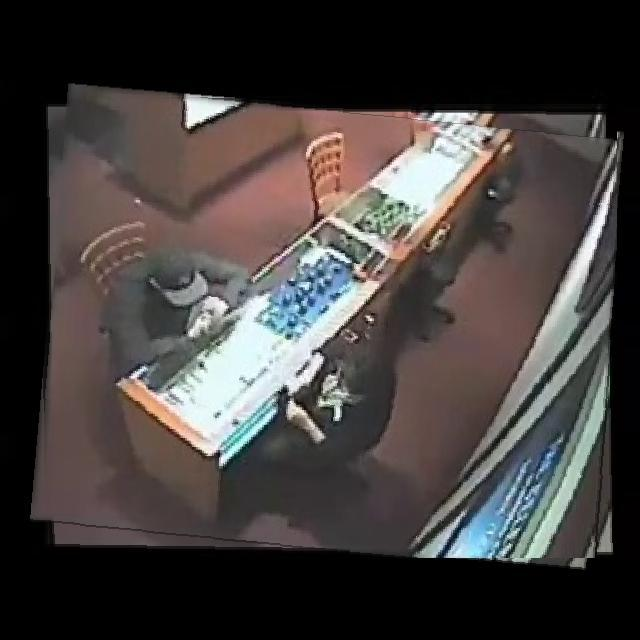normal: (39, 95, 617, 558)
